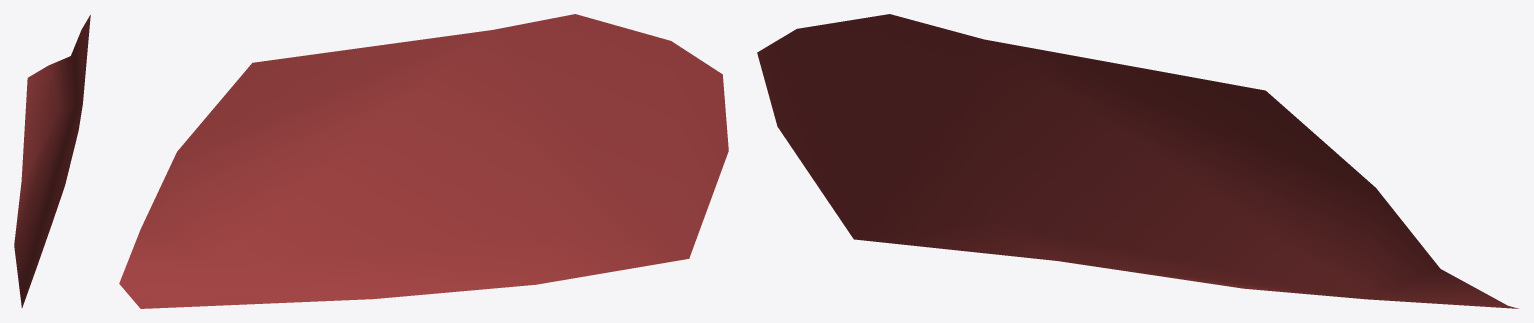
File: omohyoid-muscle-el.glb
The picture shows the model from 3 angles, left to right: view 1: azimuth 30°, elevation 25°; view 2: azimuth 150°, elevation 25°; view 3: azimuth 270°, elevation 25°; orthographic projection. The views are drawn at different scales.
Visible parts, largest first — view 1: Omohyoid muscle.el; view 2: Omohyoid muscle.el; view 3: Omohyoid muscle.el.
Boxes of the visible parts, left/top/right/bottom form: Omohyoid muscle.el: left=14, top=15, right=90, bottom=307; Omohyoid muscle.el: left=119, top=14, right=728, bottom=308; Omohyoid muscle.el: left=757, top=14, right=1518, bottom=308.
Size of the model in its own units: 0.00504 by 0.0038 by 0.00845.
